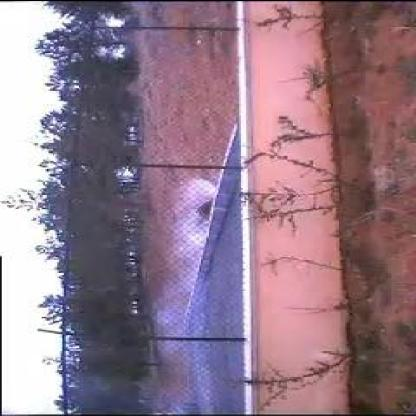-: (152, 183, 246, 379)
